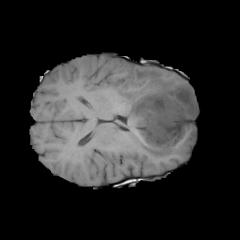glioma: (117, 66, 197, 158)
